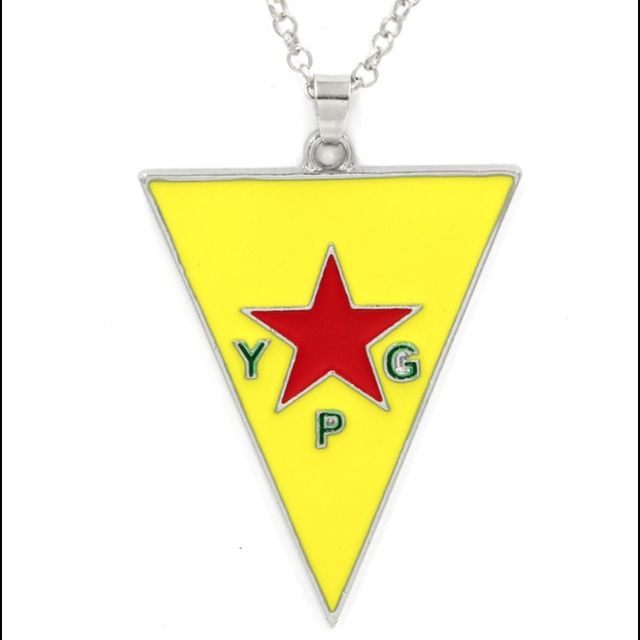YPG: (233, 246, 424, 461)
